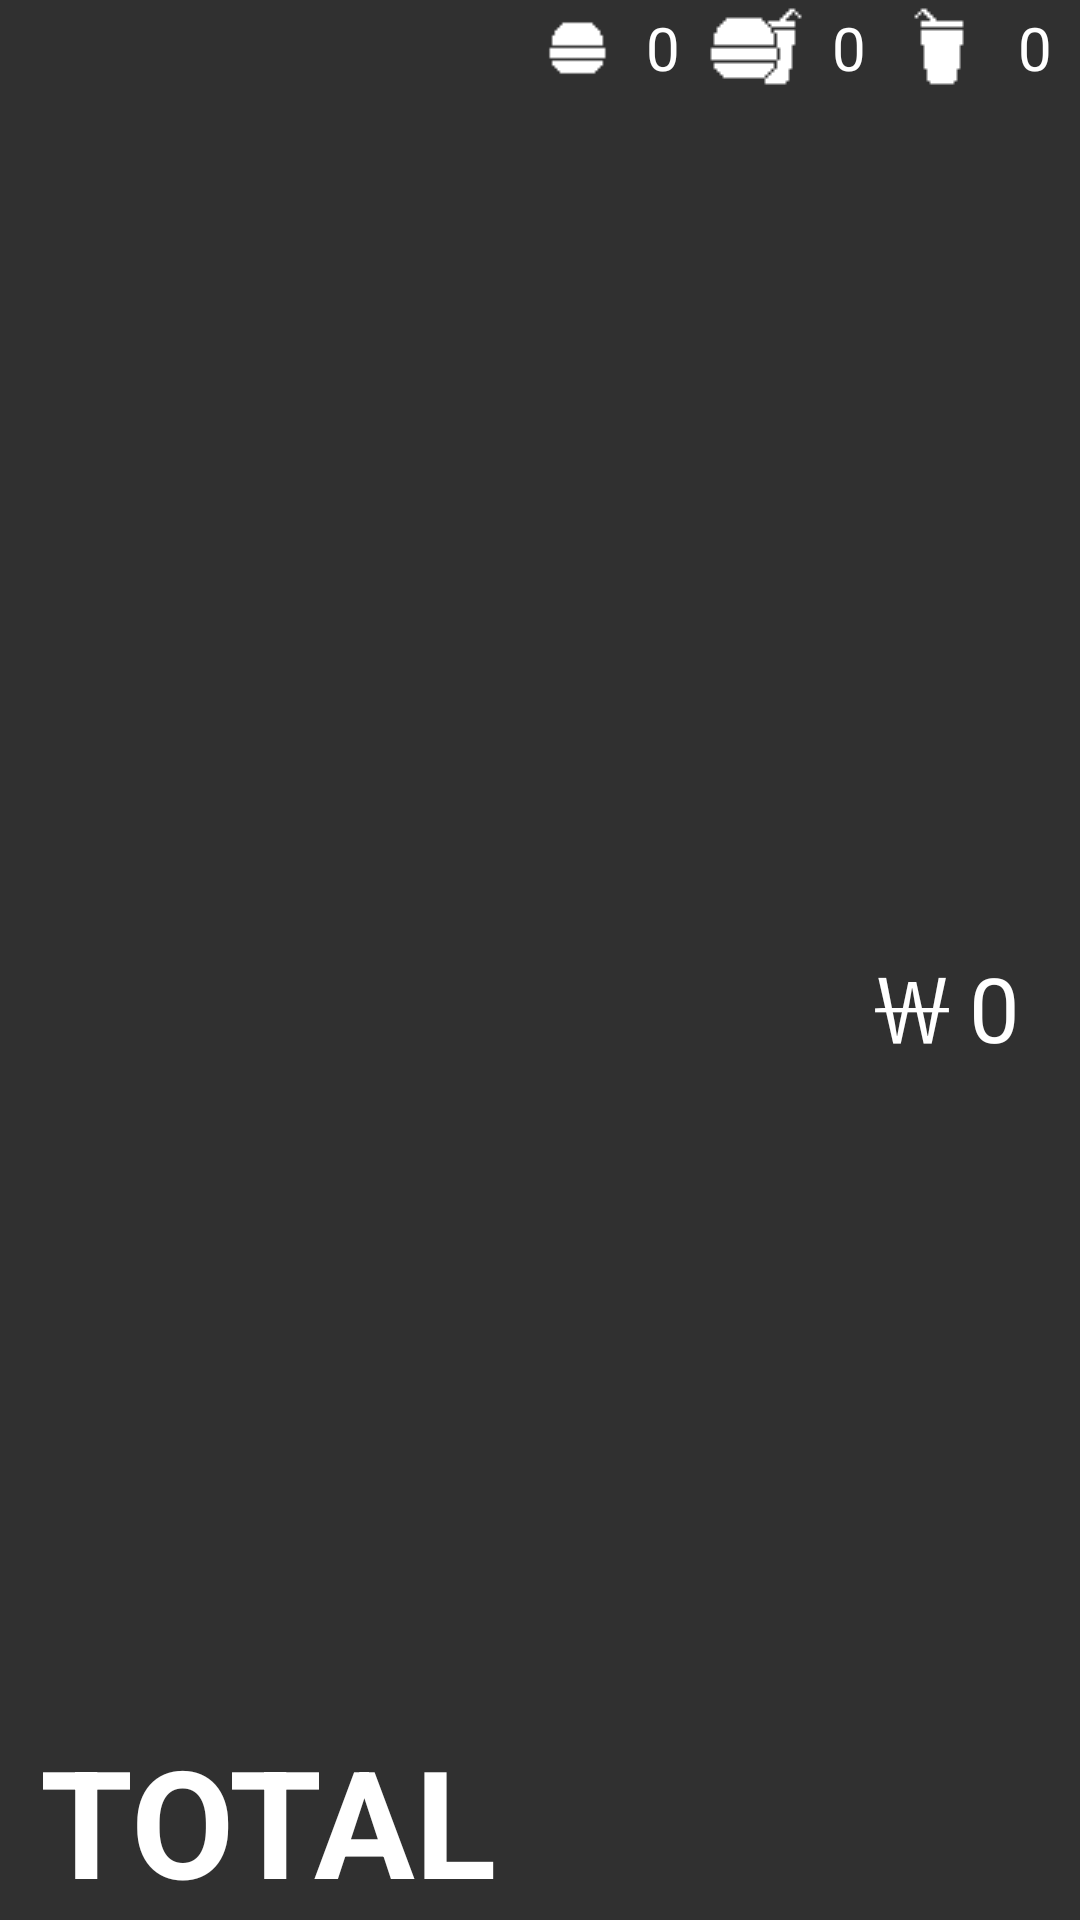

Named icons in this screenshot (1080x1920) and their bounding boxes, (x1, y1, x2, y2):
set: (710, 8, 802, 85)
side: (914, 8, 964, 85)
single: (549, 22, 606, 74)
